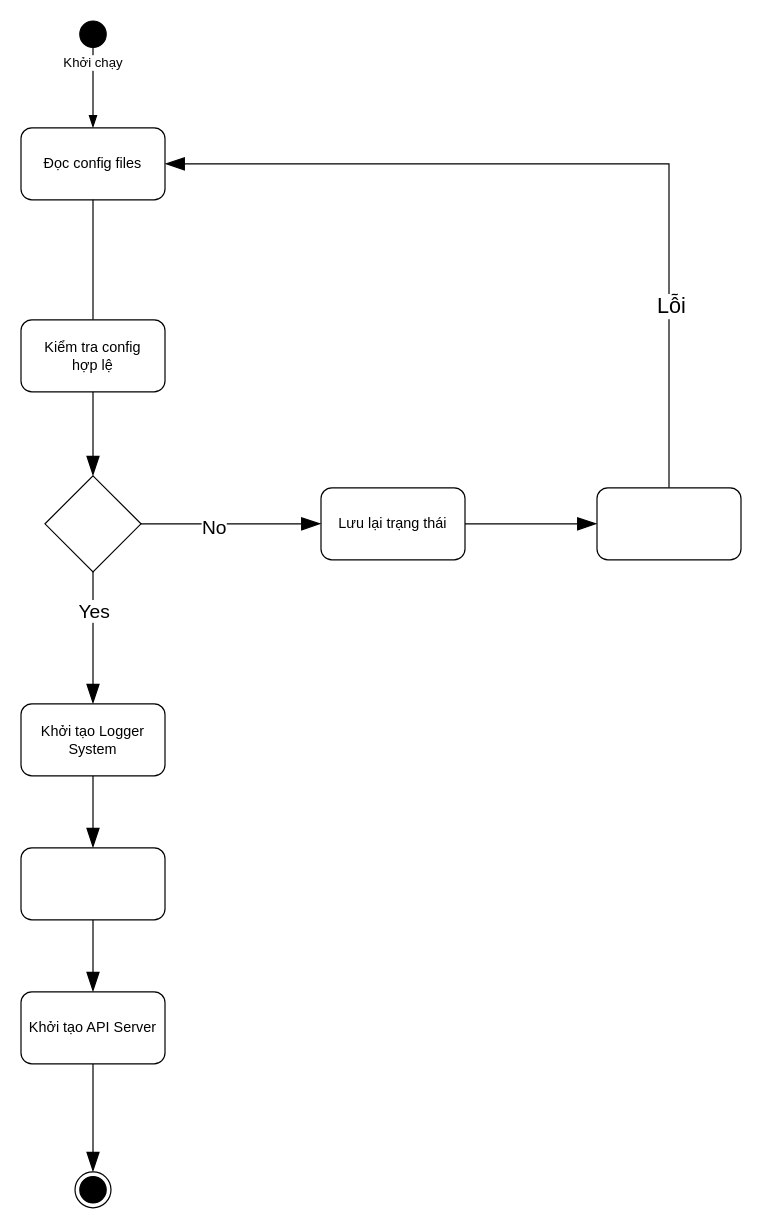
The diagram is 762 pixels wide and 1229 high, and some of its shapes have lost their labels. The centre of each missing label's shape, as x and y in pixels:
Khởi tạo AI System: (x=92, y=883)
Ném ra ngoại lệ: (x=668, y=523)
